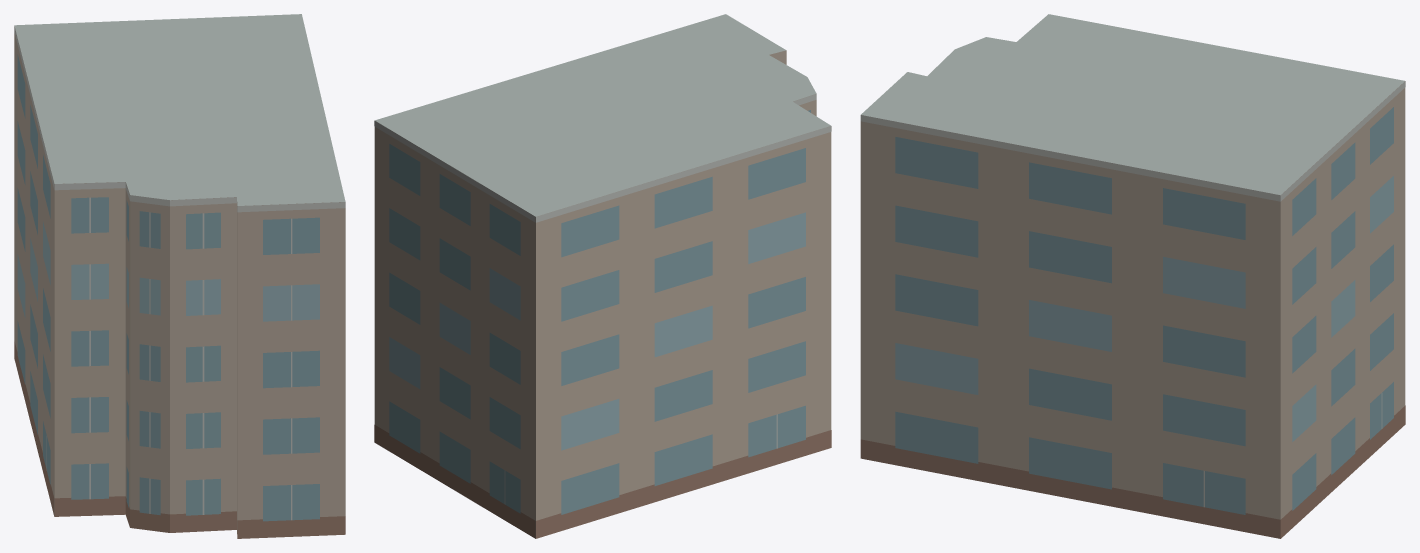
Rendered from survey-upis-32735118.glb.
3 views of the same model, side by side, from view 1: azimuth 30°, elevation 25°; view 2: azimuth 150°, elevation 25°; view 3: azimuth 270°, elevation 25° (orthographic). The views are drawn at different scales.
Visible parts, largest first — view 1: survey-upis-32735118.tmp; view 2: survey-upis-32735118.tmp; view 3: survey-upis-32735118.tmp.
Part boxes in pixels (left/top/right/bottom): survey-upis-32735118.tmp: left=14, top=14, right=345, bottom=538; survey-upis-32735118.tmp: left=374, top=14, right=831, bottom=538; survey-upis-32735118.tmp: left=860, top=14, right=1405, bottom=538.
Bounding box in the file's own units: 14.71 × 13 × 18.69.
